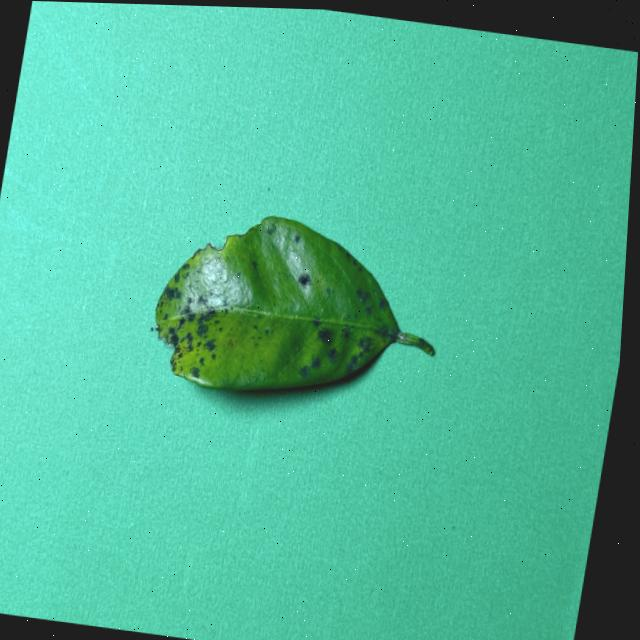sooty_mold: (155, 215, 434, 389)
